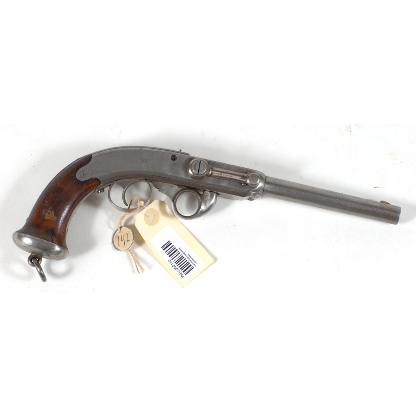gun: (12, 143, 400, 280)
